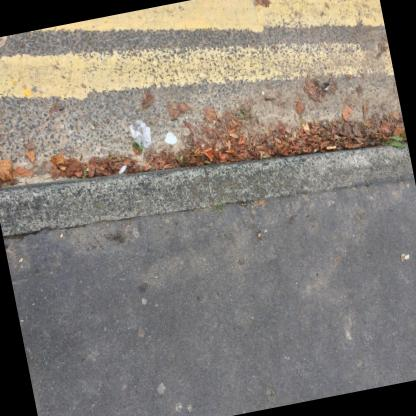Paper: (325, 145, 335, 149)
Plastic: (128, 118, 150, 148)
Waste: (163, 132, 176, 145)
